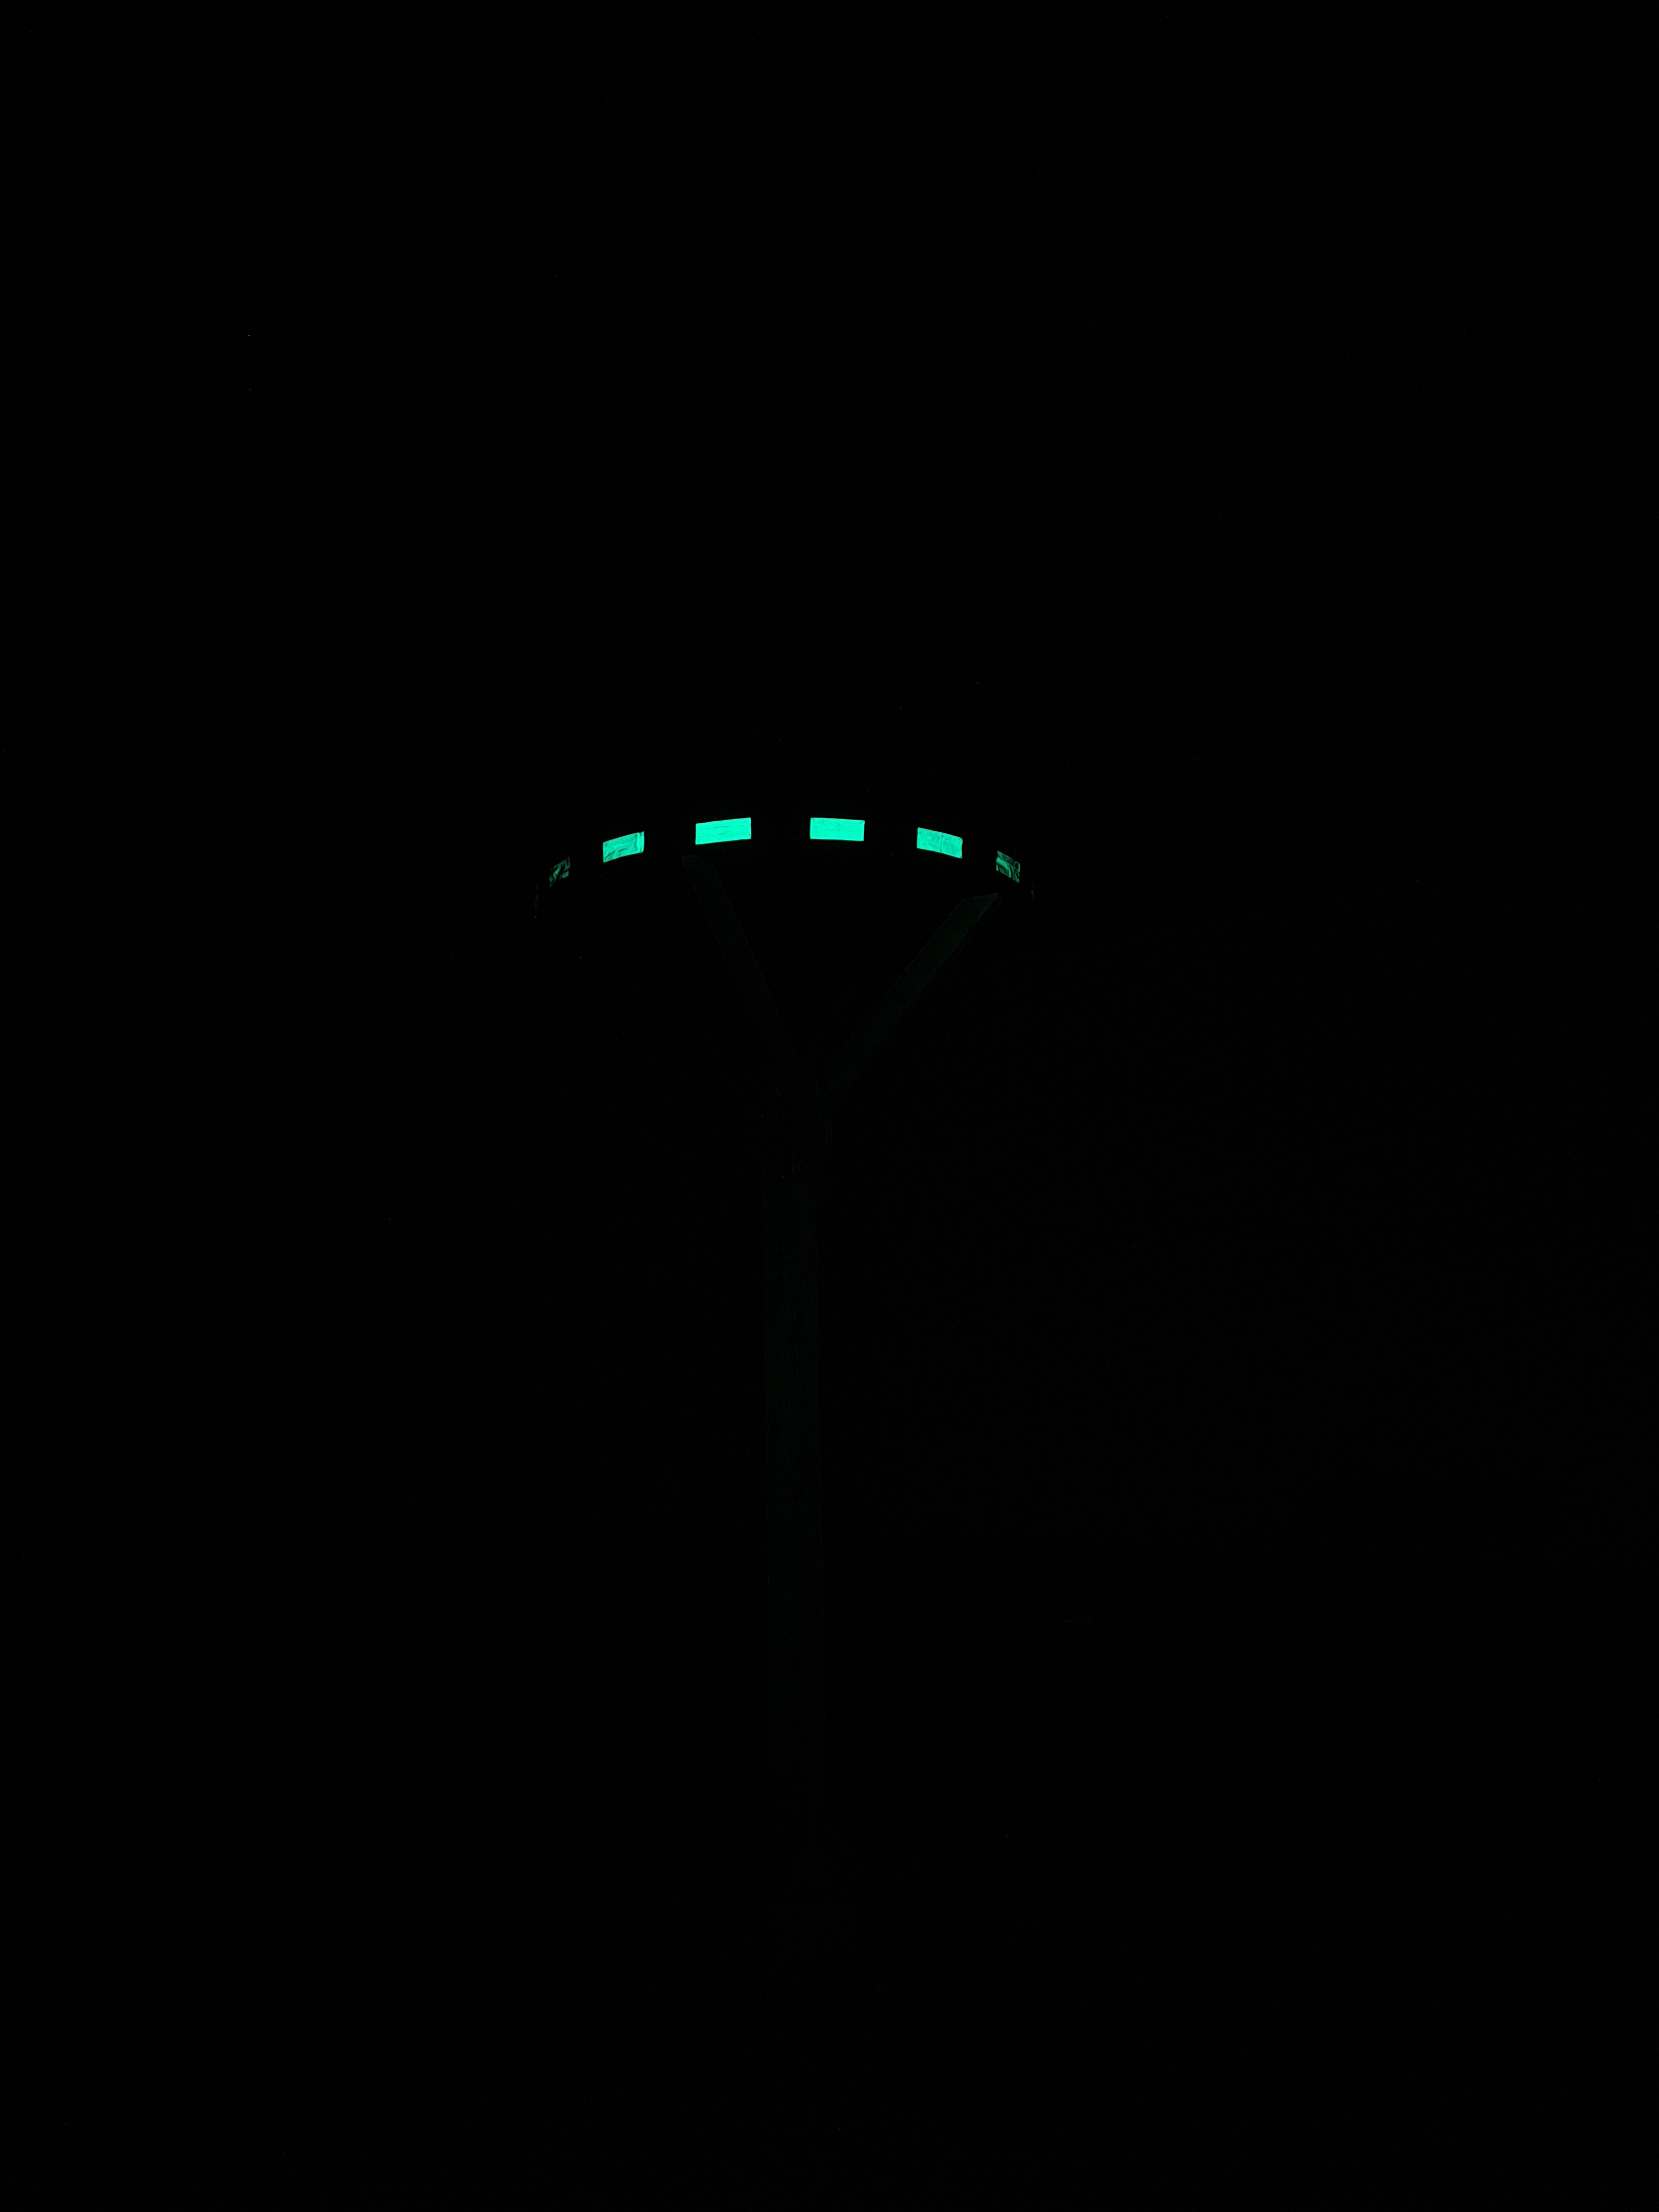hoop: (488, 794, 1042, 906)
